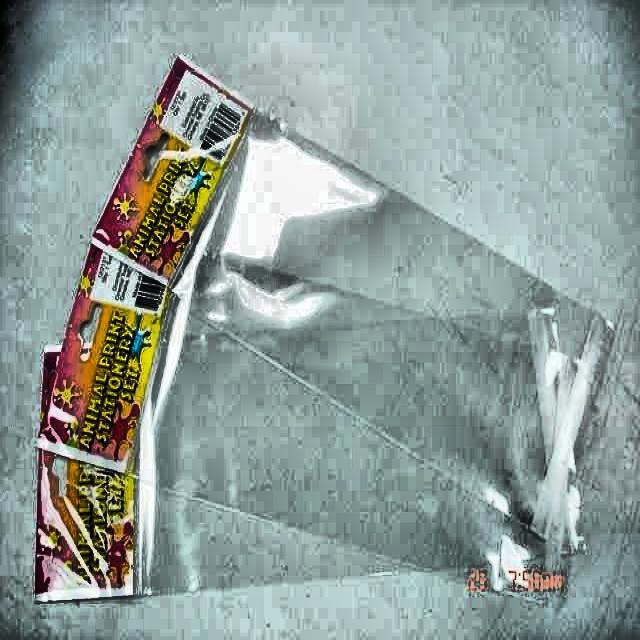Plastic: (87, 42, 614, 469)
